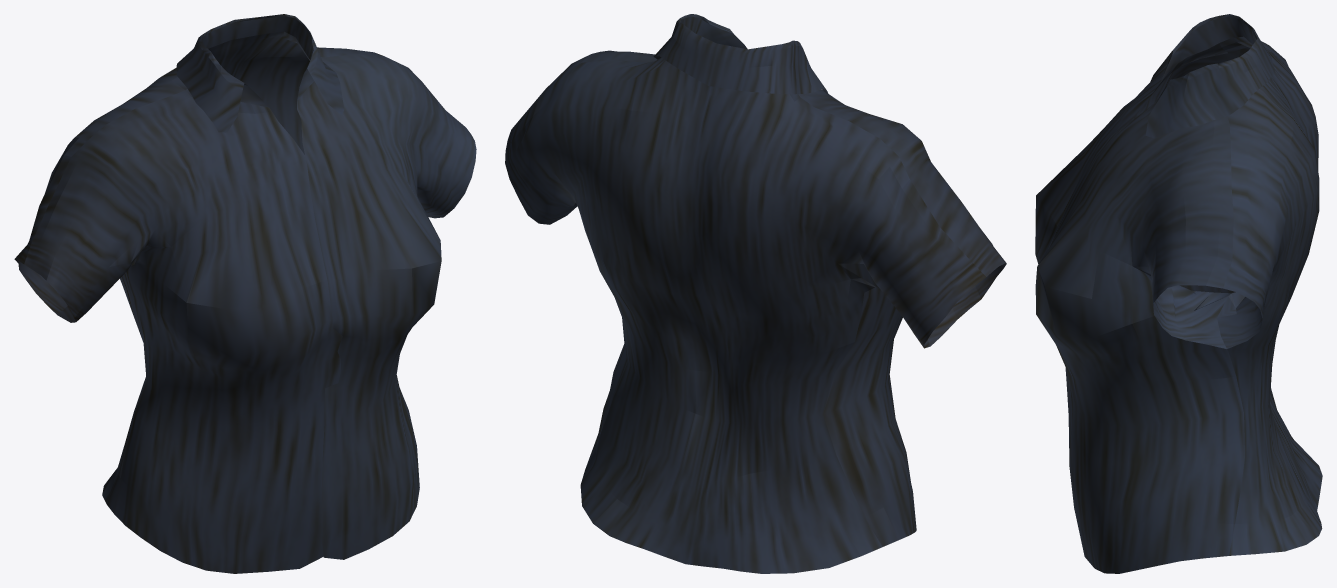
Rendered from SM_SMF.dae.
3 renders of one model, left to right at view 1: azimuth 30°, elevation 25°; view 2: azimuth 150°, elevation 25°; view 3: azimuth 270°, elevation 25°, orthographic. The views are drawn at different scales.
Parts seen in each view (by area): view 1: shirt01Mesh.001; view 2: shirt01Mesh.001; view 3: shirt01Mesh.001.
Part boxes in pixels (bbox=[...]): shirt01Mesh.001: bbox=[14, 14, 476, 573]; shirt01Mesh.001: bbox=[505, 14, 1006, 573]; shirt01Mesh.001: bbox=[1035, 14, 1322, 573].
Bounding box in the file's own units: 5.1 × 5.43 × 2.83.
